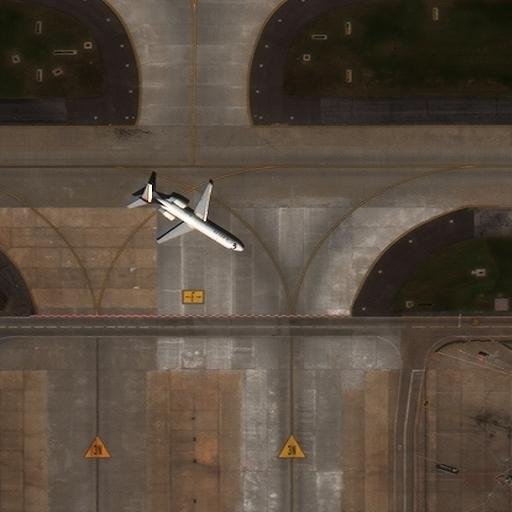Medium Civil Transport: (137, 185, 245, 251)
